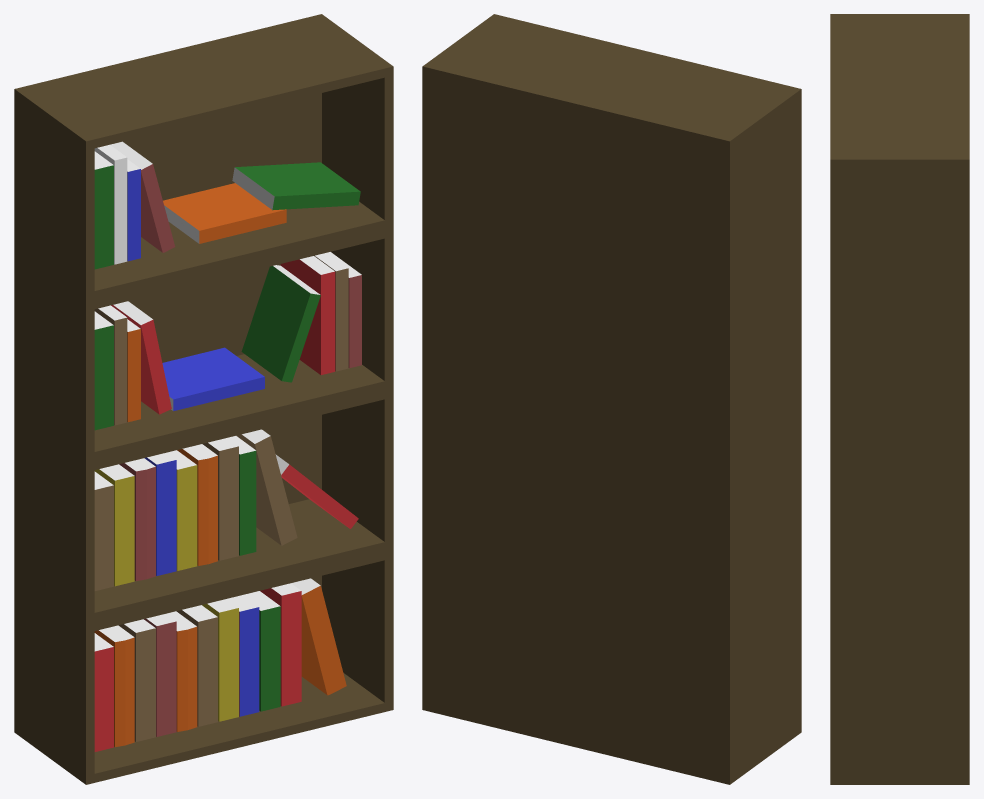
The model's file is bookshelfv1.glb.
3 views of the same model, side by side, from view 1: azimuth 30°, elevation 25°; view 2: azimuth 150°, elevation 25°; view 3: azimuth 270°, elevation 25° (orthographic). The views are drawn at different scales.
Visible parts, largest first — view 1: BookShelf01; view 2: BookShelf01; view 3: BookShelf01.
Part boxes in pixels (x1,y1,x2,y2): BookShelf01: (14,14,393,784); BookShelf01: (422,14,801,784); BookShelf01: (830,14,969,784).
Size of the model in its own units: 4.95 by 9.91 by 2.
1 material, 1 textured.
